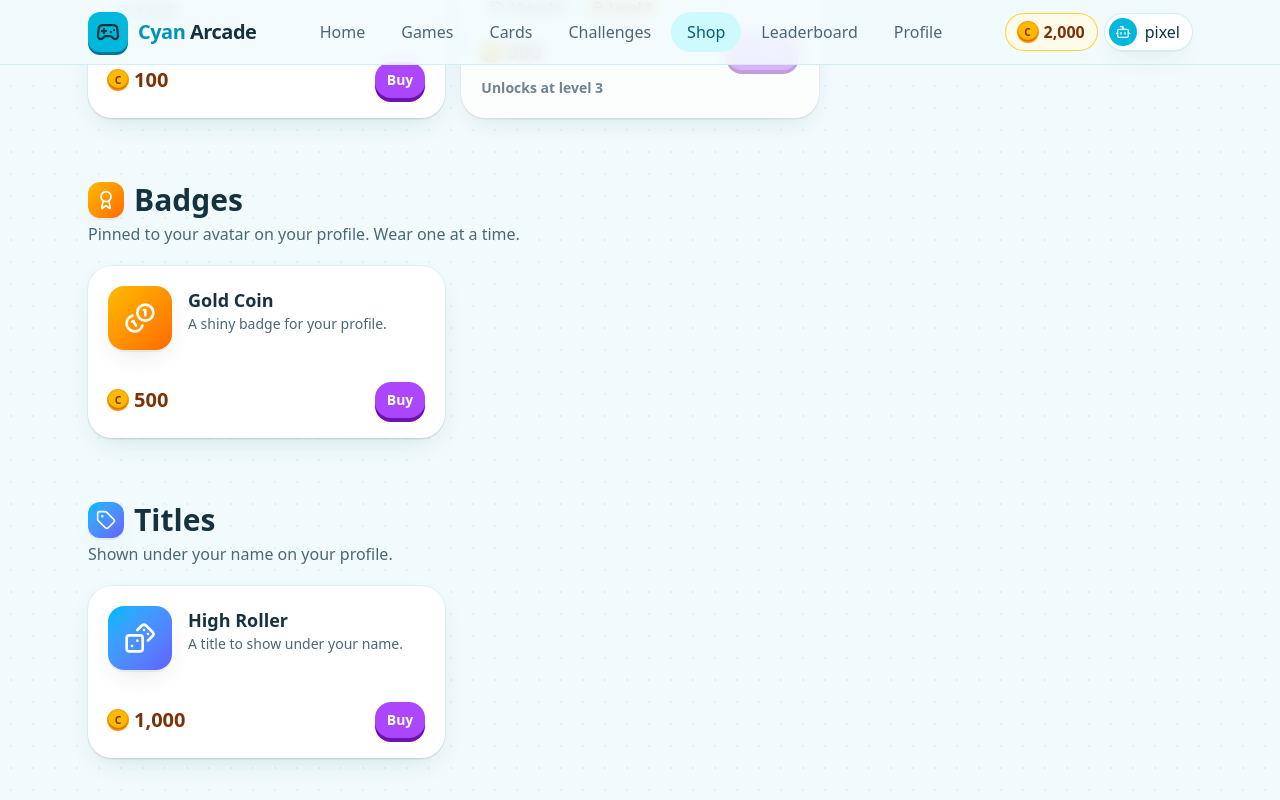
Test: the shop › wears a bought badge straight away, and takes it off and puts it on again
(page scrolled)
Step 1. Click the button with aria-label "buy gold coin" → (400, 400), box [375,382,425,418]
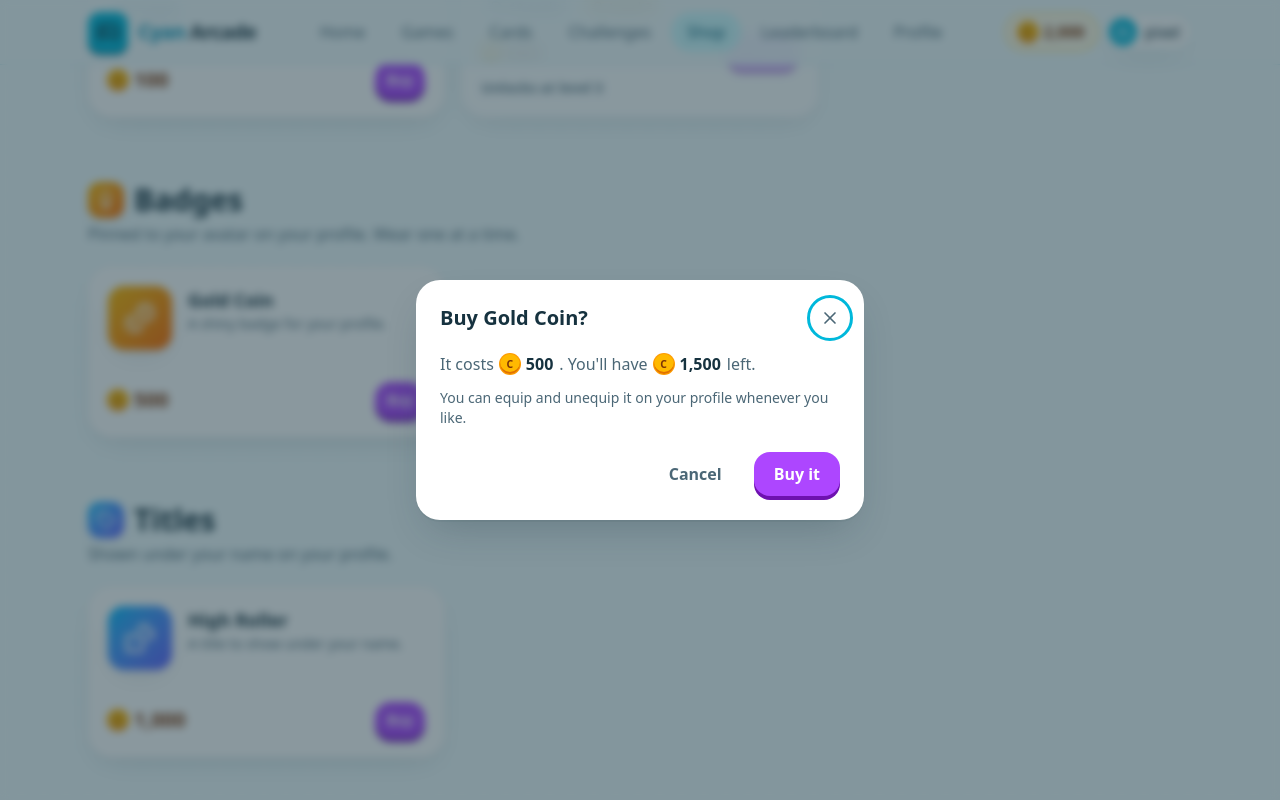
Step 2. Click the button "Buy it" → (797, 474), box [754,452,840,496]
(page scrolled)
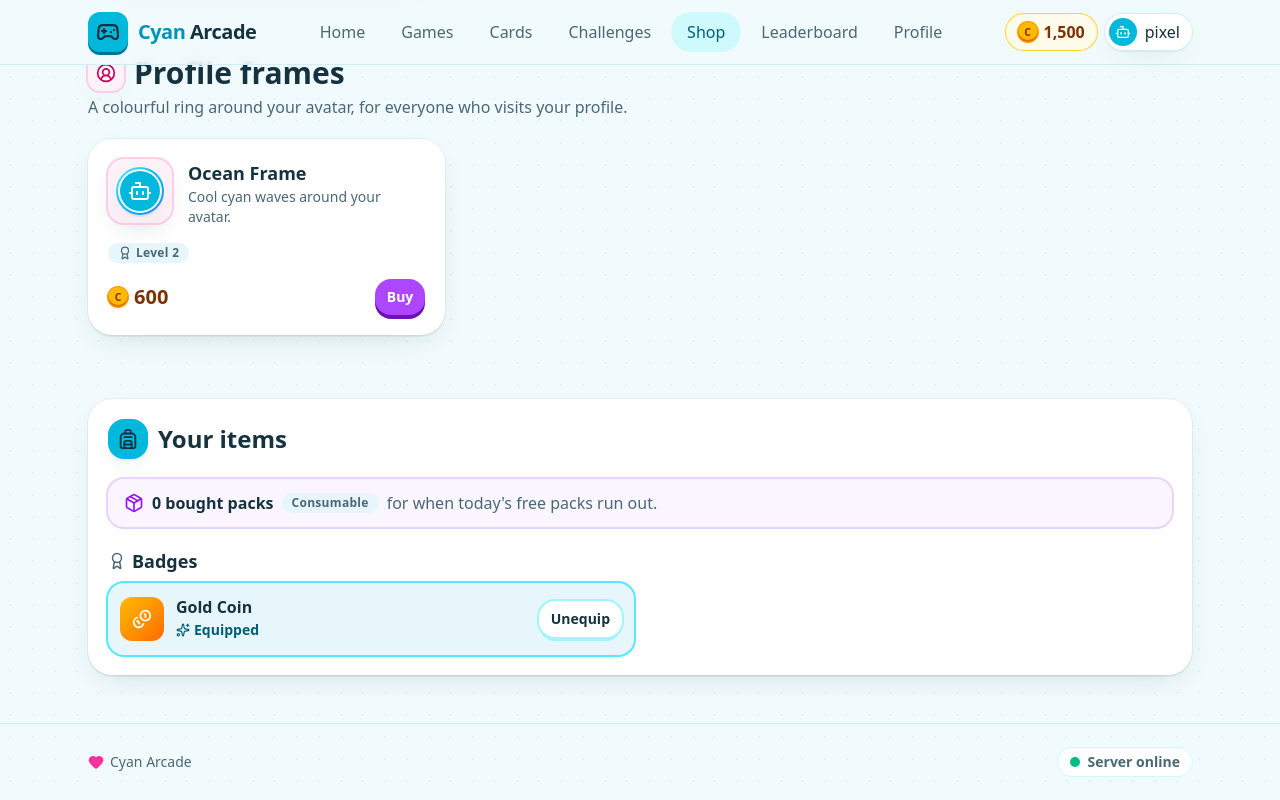
Check: the heading "Buy Gold Coin" is gone
Step 3. Click the button with aria-label "Unequip Gold Coin" → (580, 619), box [539,601,622,637]
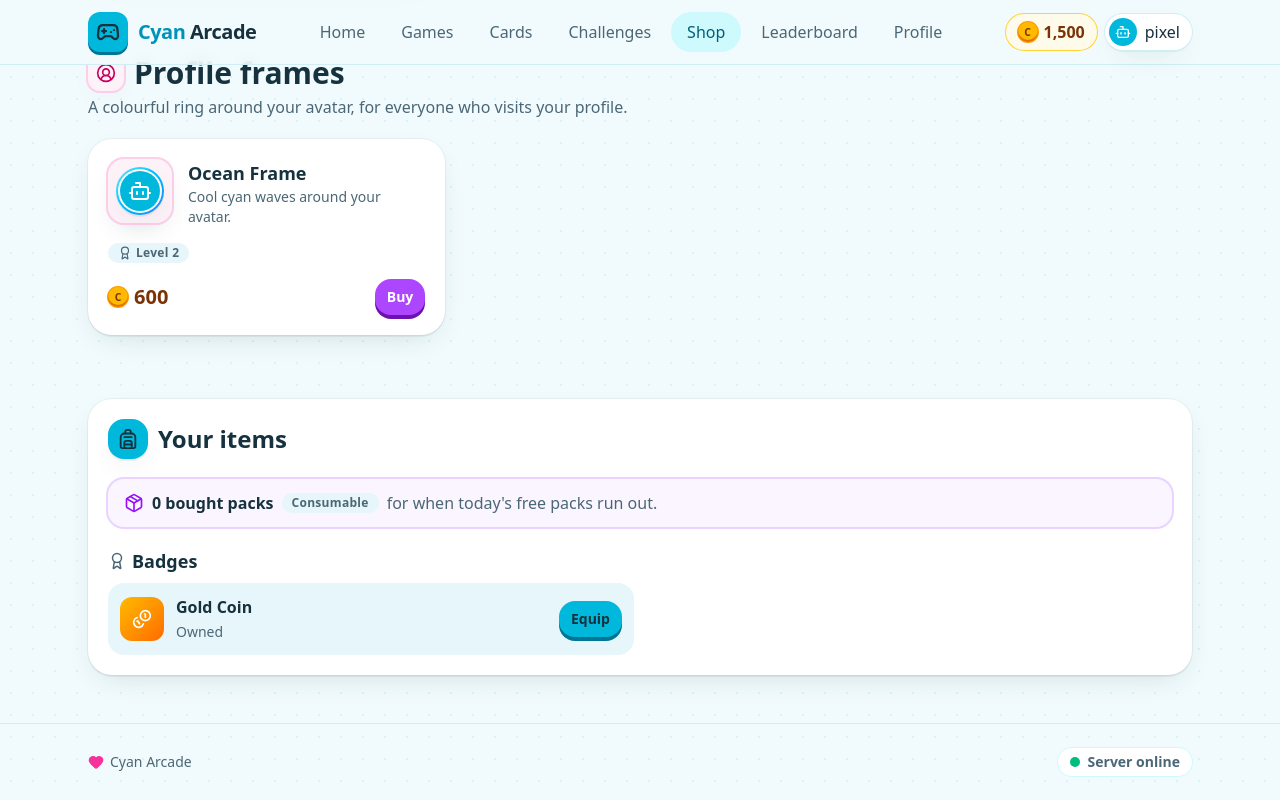
Check: the button with aria-label "Equip Gold Coin" reads "Equip"
Step 4. Click the button with aria-label "Equip Gold Coin" → (590, 619), box [559,601,622,637]
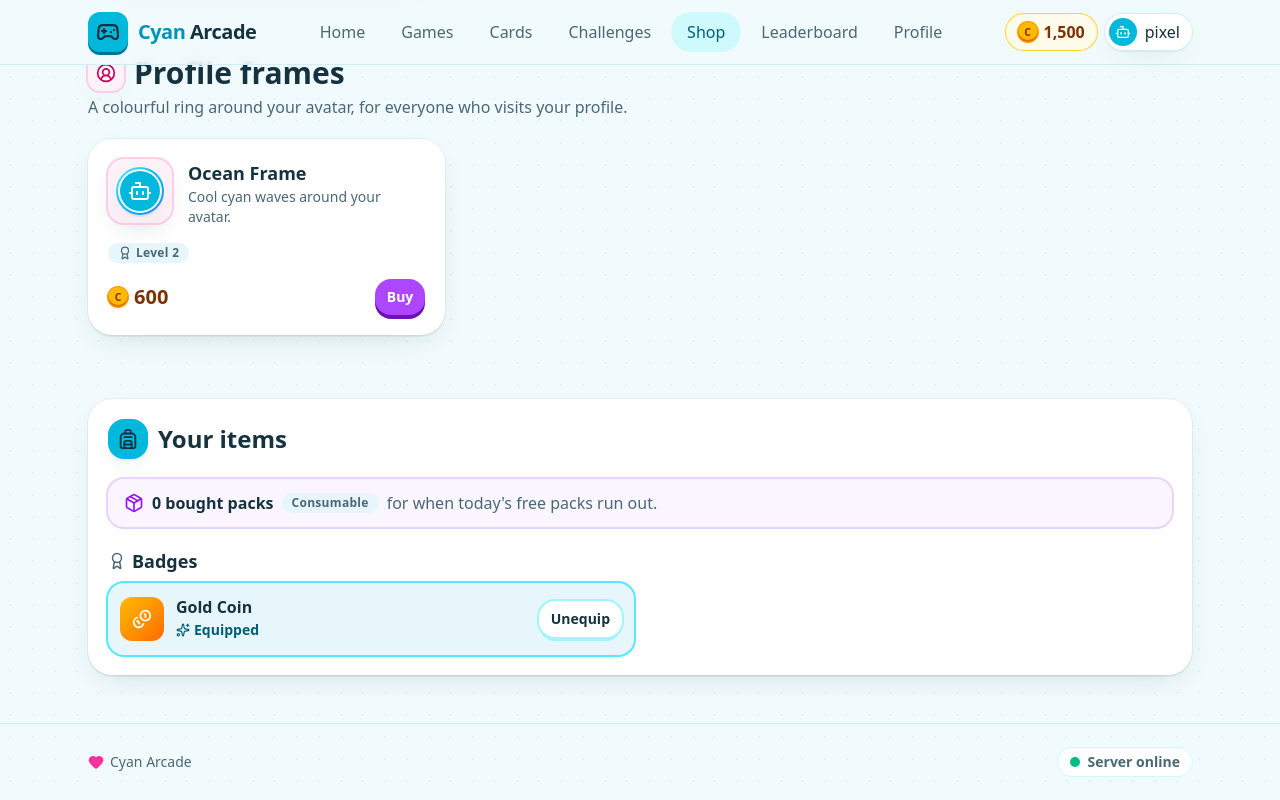
Check: the button with aria-label "Unequip Gold Coin" is shown, box [539,601,622,637]
